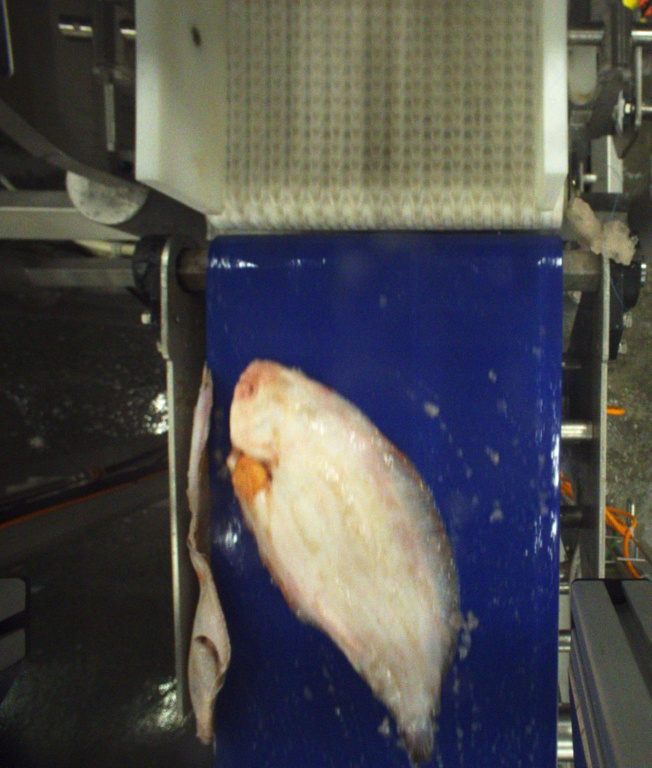SOL: (224, 361, 462, 756)
